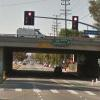Traffic light: (20, 7, 82, 33)
